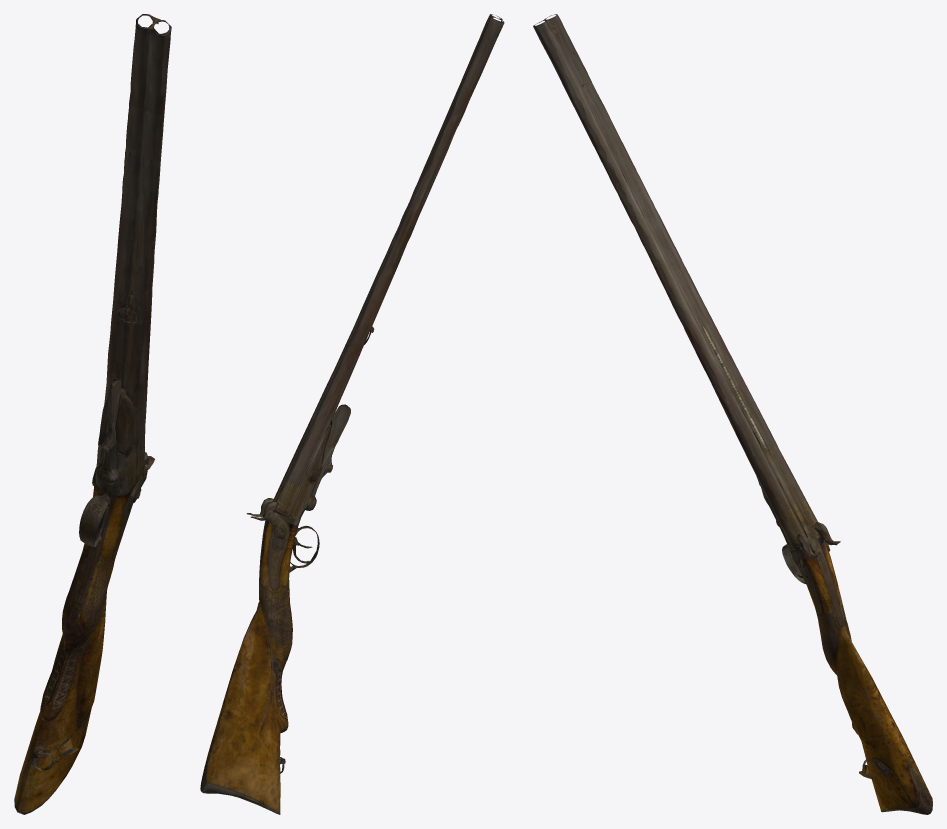
Rendered from gun.glb.
3 views of the same model, side by side, from view 1: azimuth 30°, elevation 25°; view 2: azimuth 150°, elevation 25°; view 3: azimuth 270°, elevation 25° (orthographic). The views are drawn at different scales.
Parts seen in each view (by area): view 1: Copie de Copie de Sharp fusion 2; view 2: Copie de Copie de Sharp fusion 2; view 3: Copie de Copie de Sharp fusion 2.
Part boxes in pixels (x1,y1,x2,y2): Copie de Copie de Sharp fusion 2: [14, 14, 171, 814]; Copie de Copie de Sharp fusion 2: [200, 14, 504, 814]; Copie de Copie de Sharp fusion 2: [533, 14, 932, 814].
Size of the model in its own units: 0.2224 by 1.1 by 0.5235.
Materials: 1 (1 with a texture image).
